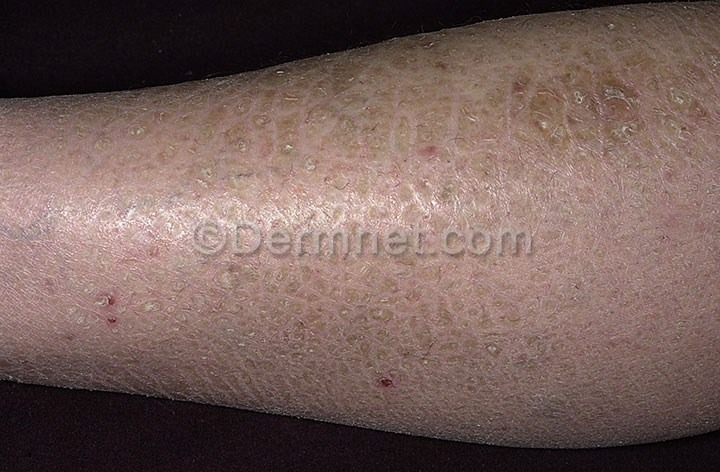Eczema: (10, 101, 720, 401), (398, 17, 719, 96)
